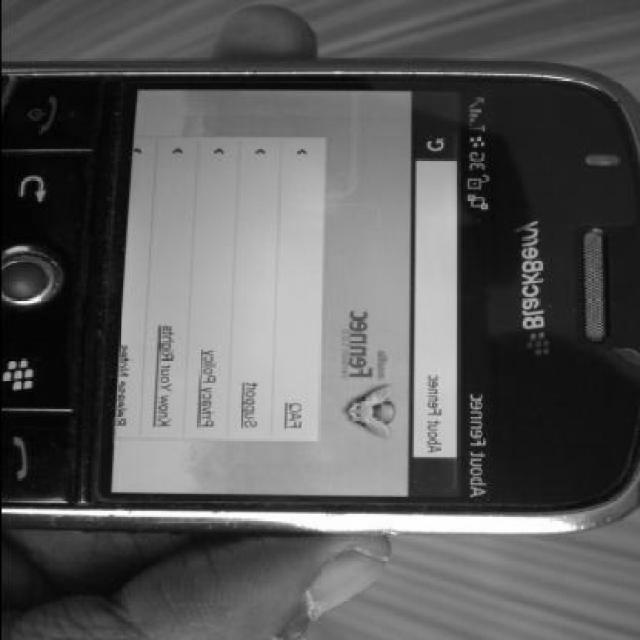fake: (0, 56, 640, 536)
